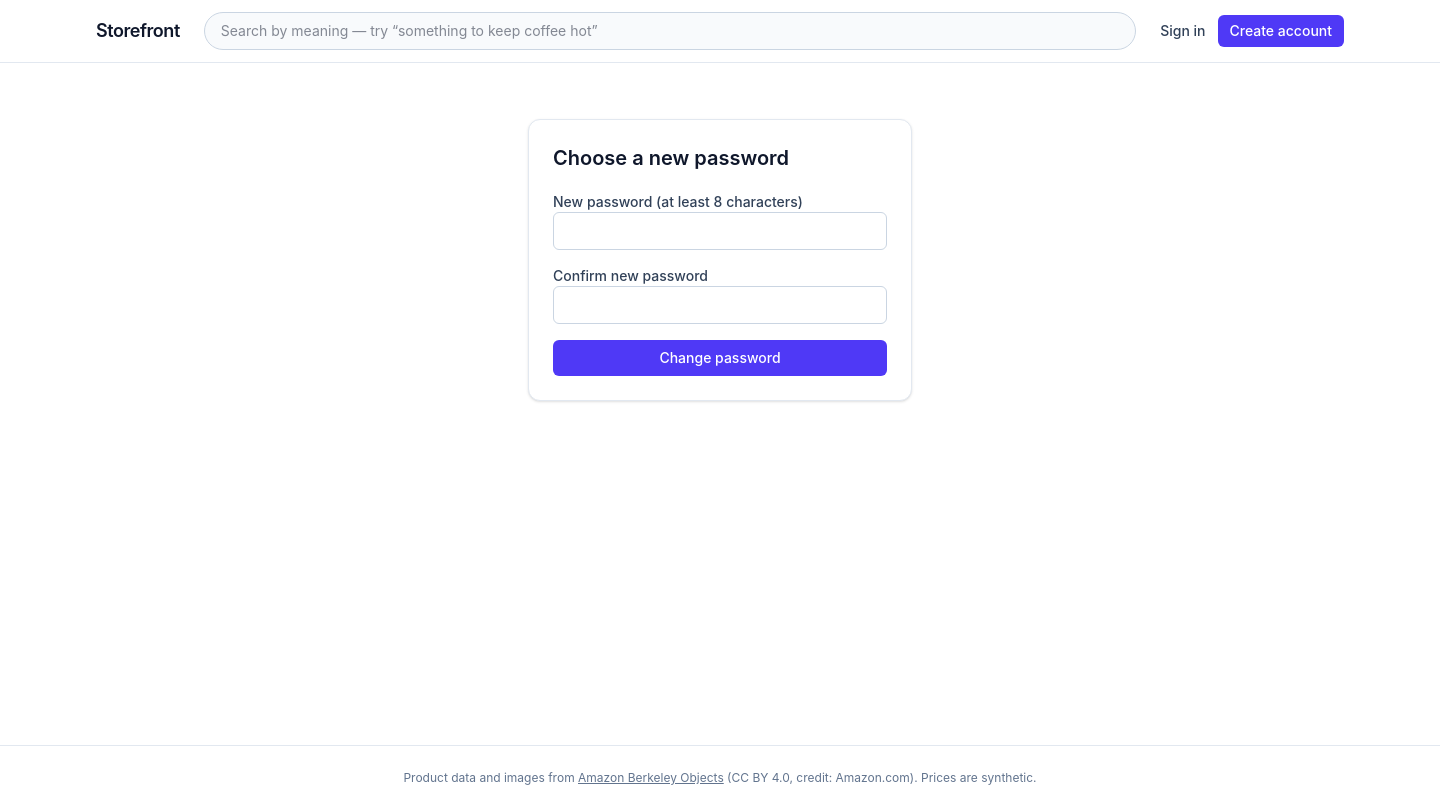
Test: forgot and reset password › resets the password with the token from the link
Expected: the header is shown, [0,0,1439,63]
In the password field labelled "New password (at least 8 characters)": (720, 231) [553,212,887,250], type "correct-horse-battery"
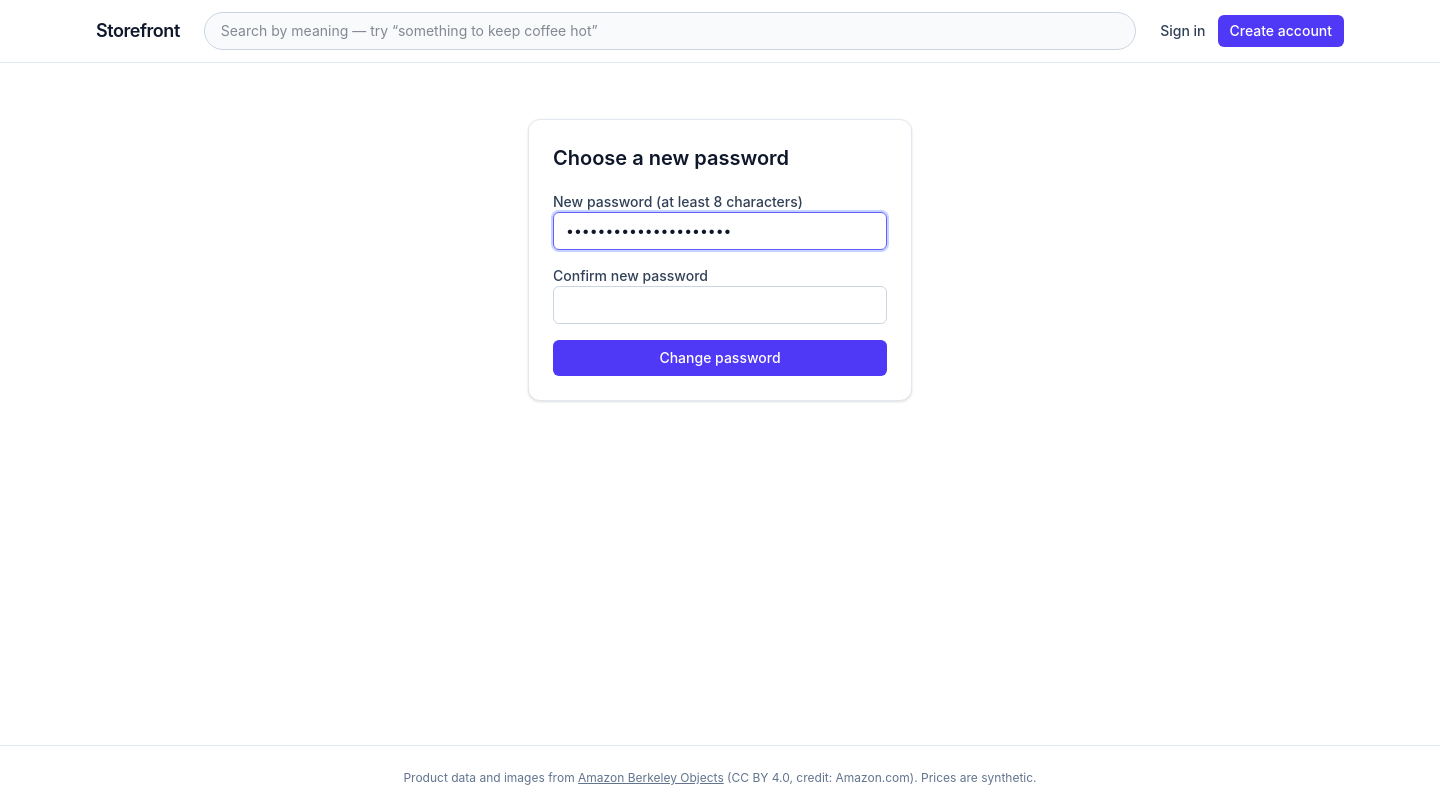
In the password field labelled "Confirm new password": (720, 305) [553,286,887,324], type "correct-horse-battery"
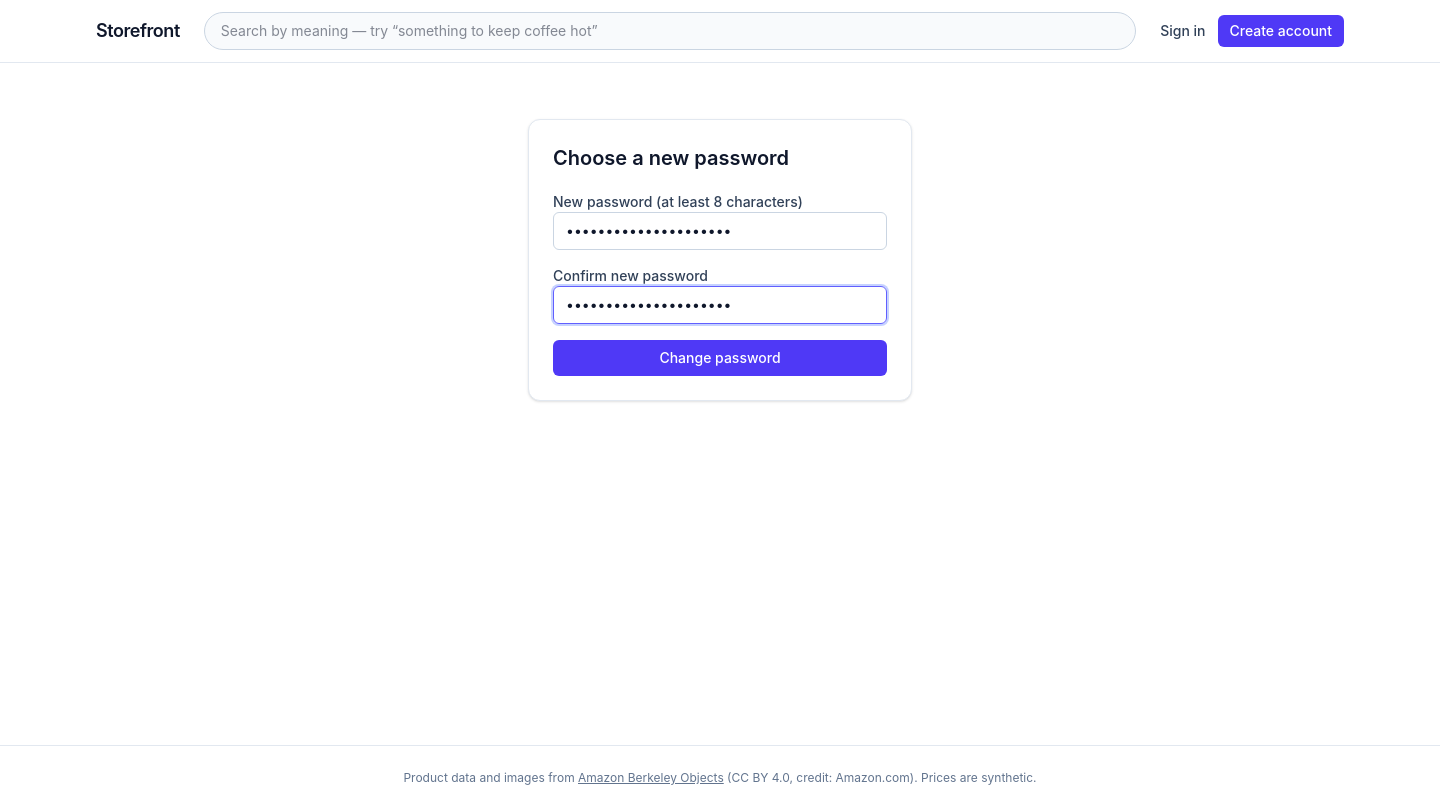
Click the button "Change password": (720, 358) [553,340,887,376]
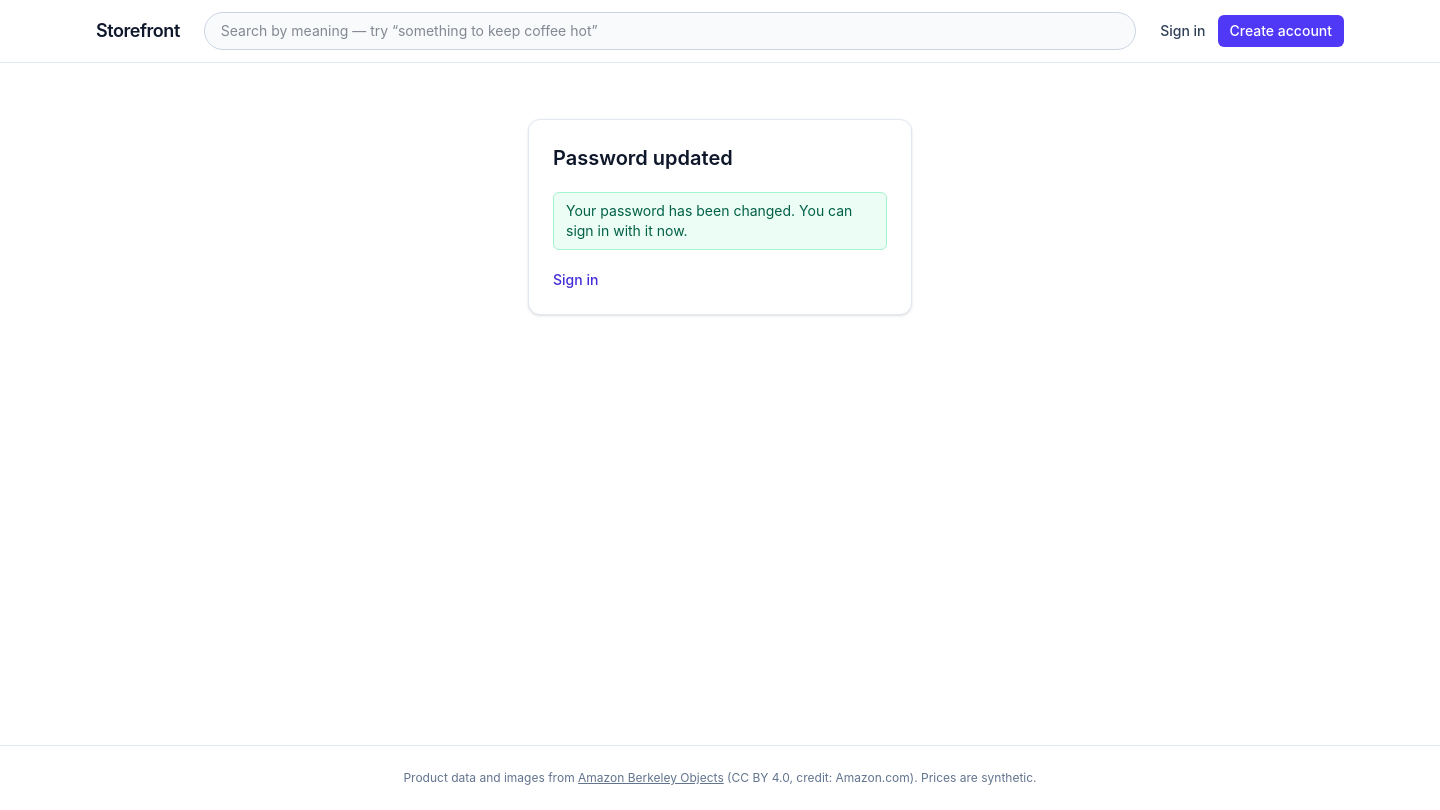
Expected: the heading "Password updated" is shown, [553,146,733,170]
